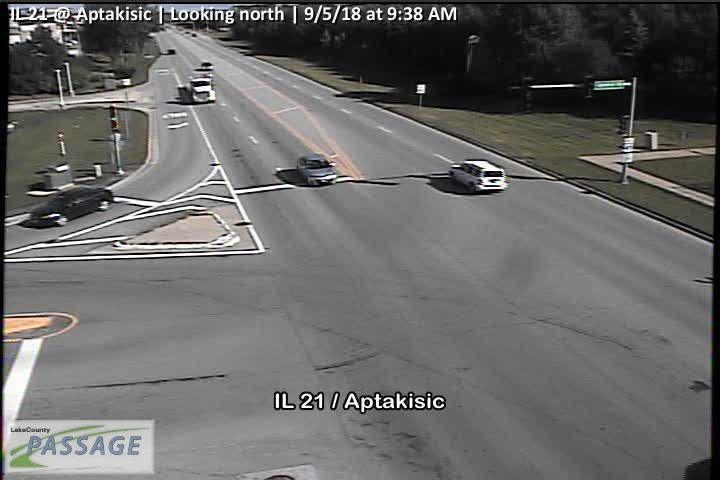SUV: (451, 161, 505, 194)
Sedan: (28, 183, 114, 226), (294, 155, 336, 188)
Truck: (187, 67, 215, 103)
